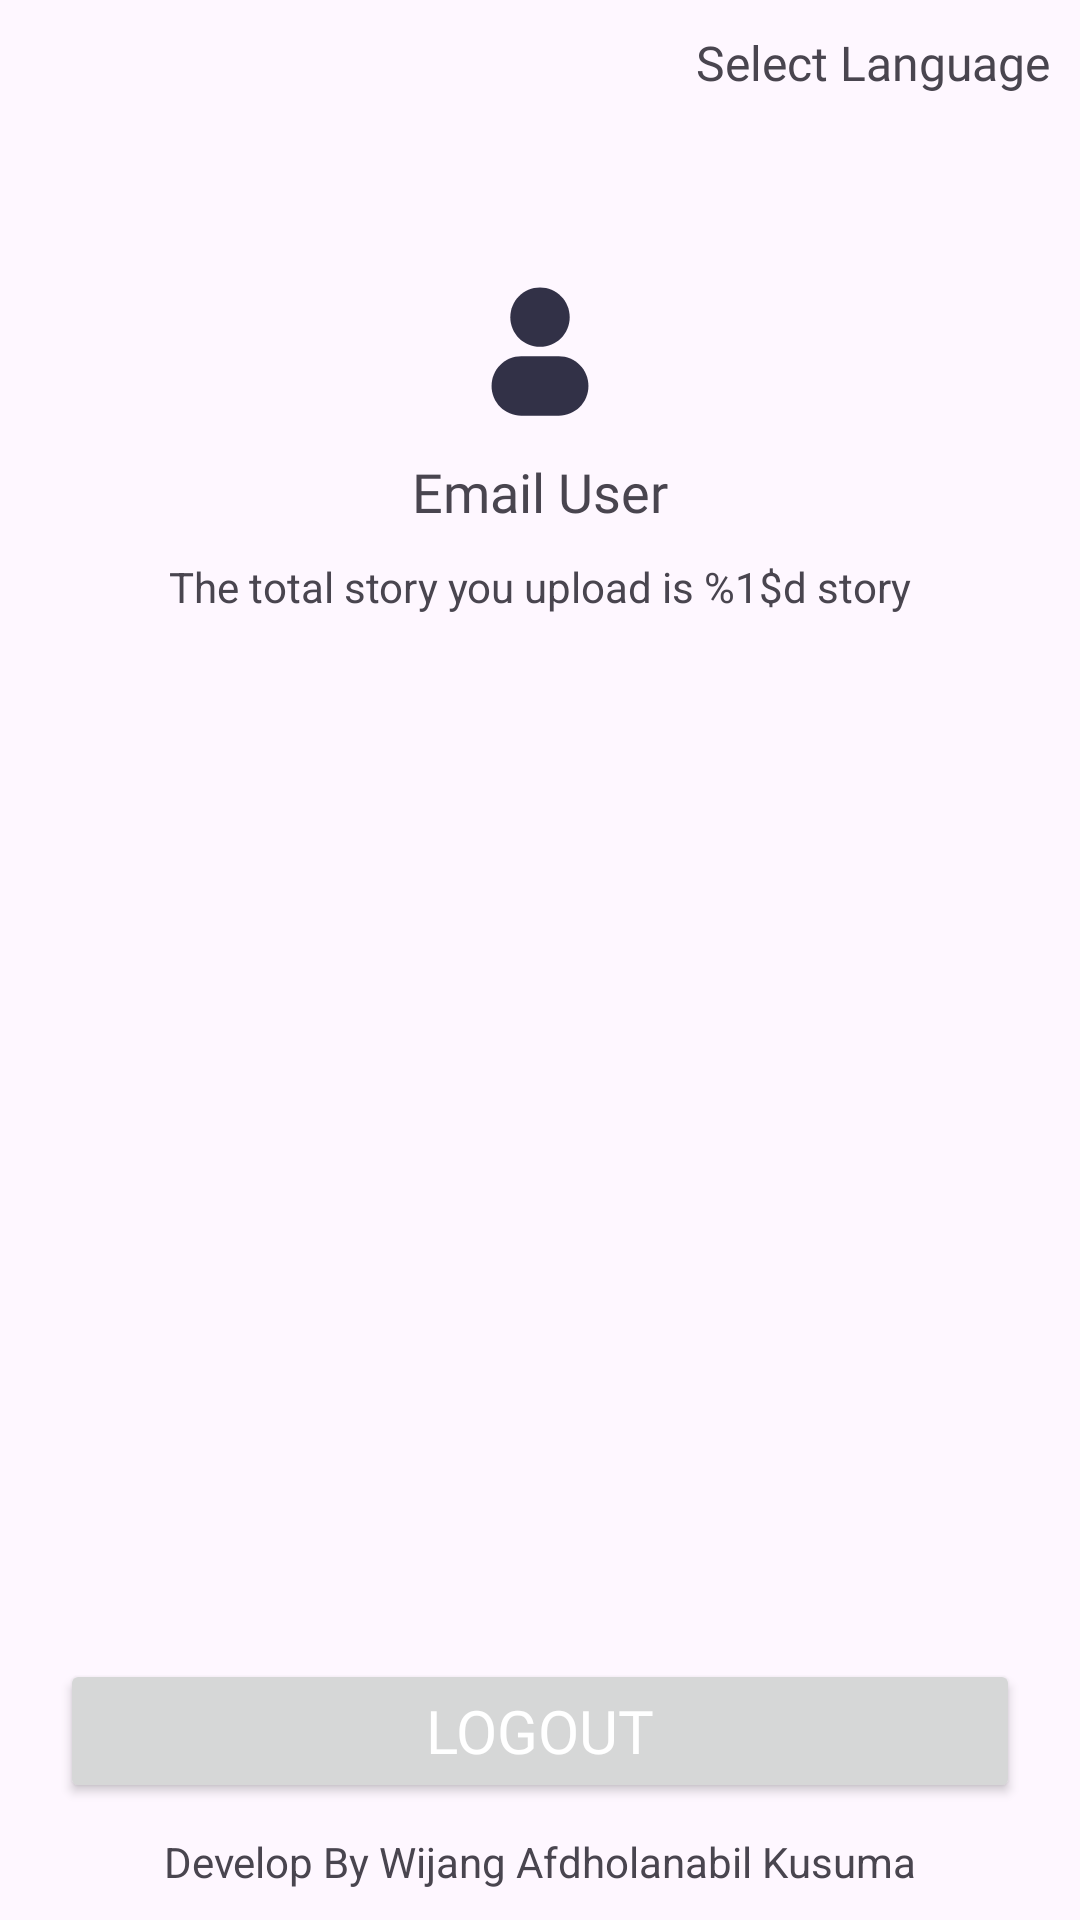

Icon bounding boxes for this 1080*1920 phone screenshot, format (x1, y1, x2, y2):
profile: (491, 287, 589, 416)
